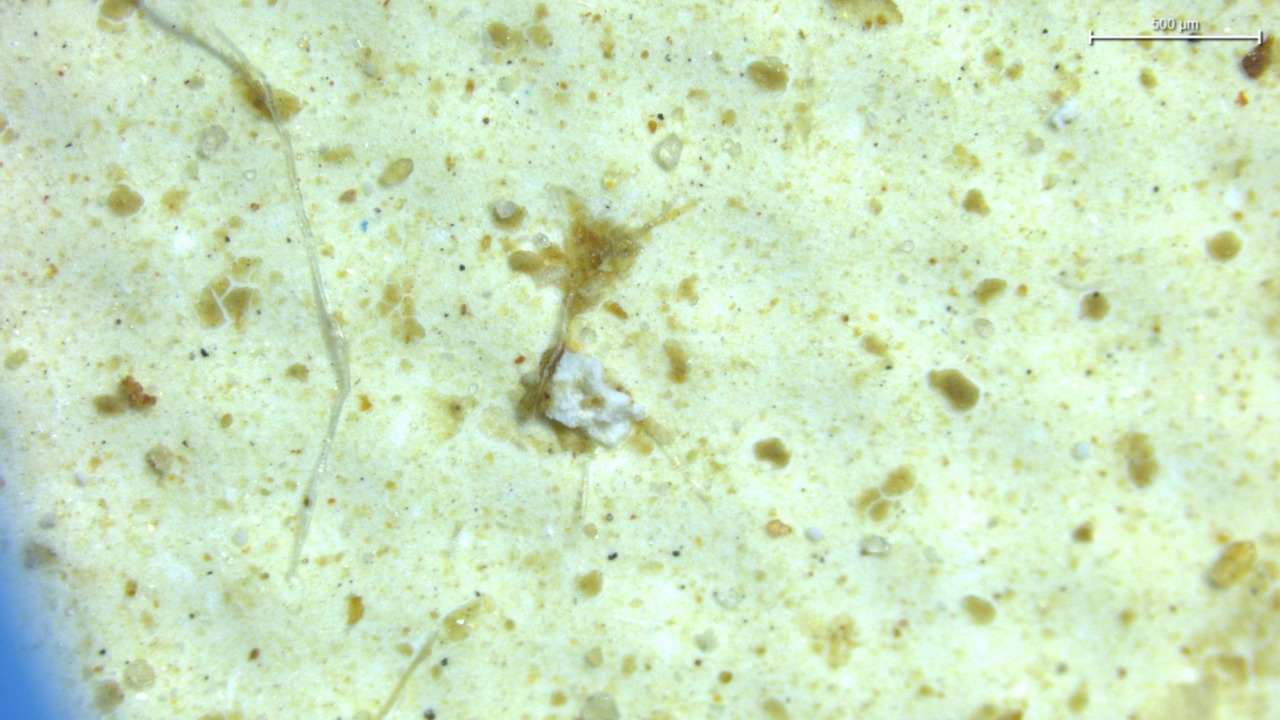microplastic_fragment: (541, 350, 644, 445), (652, 134, 683, 171)
